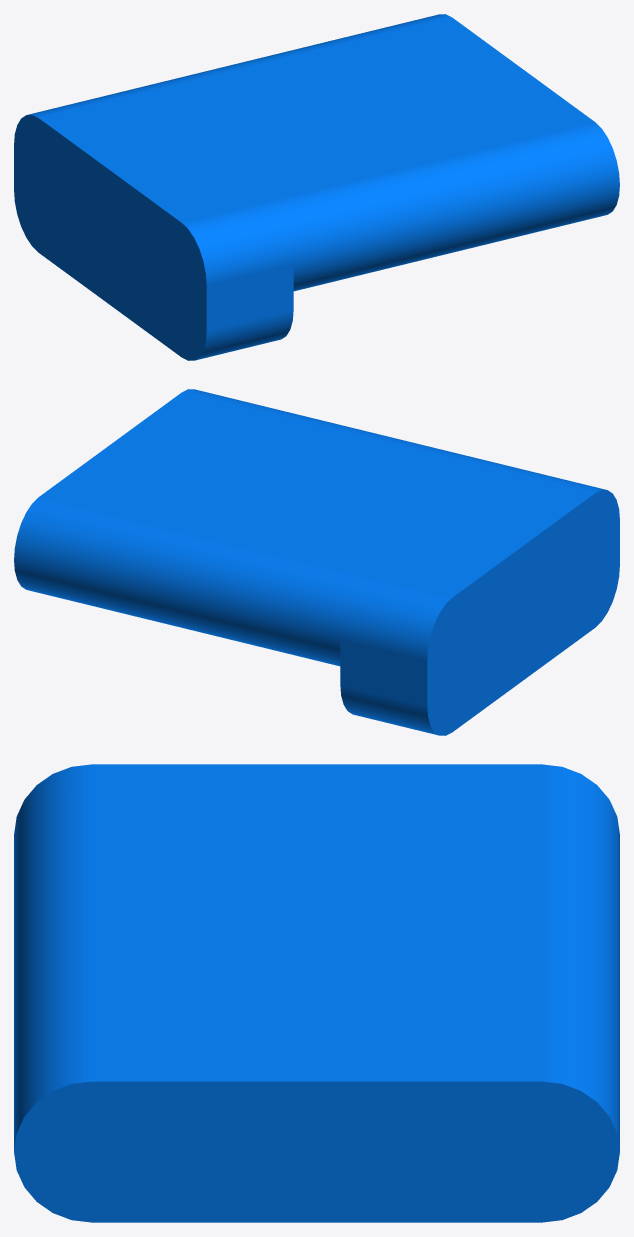
The model's file is AzureKinectModel.fbx.
3 views of the same model, one above another, from view 1: azimuth 30°, elevation 25°; view 2: azimuth 150°, elevation 25°; view 3: azimuth 270°, elevation 25° (orthographic). The views are drawn at different scales.
Parts seen in each view (by area): view 1: Solid; view 2: Solid; view 3: Solid.
Part boxes in pixels (x1,y1,x2,y2): Solid: (14, 14, 619, 360); Solid: (14, 389, 619, 735); Solid: (14, 764, 619, 1222).
Size of the model in its own units: 5.03 by 4.06 by 1.57.
